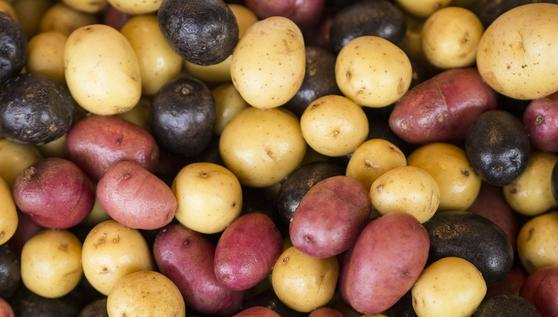potato: (471, 3, 558, 98), (233, 19, 305, 108), (223, 103, 303, 181), (339, 34, 411, 109), (83, 224, 151, 296), (178, 163, 247, 230), (303, 97, 371, 154), (109, 272, 181, 313)
